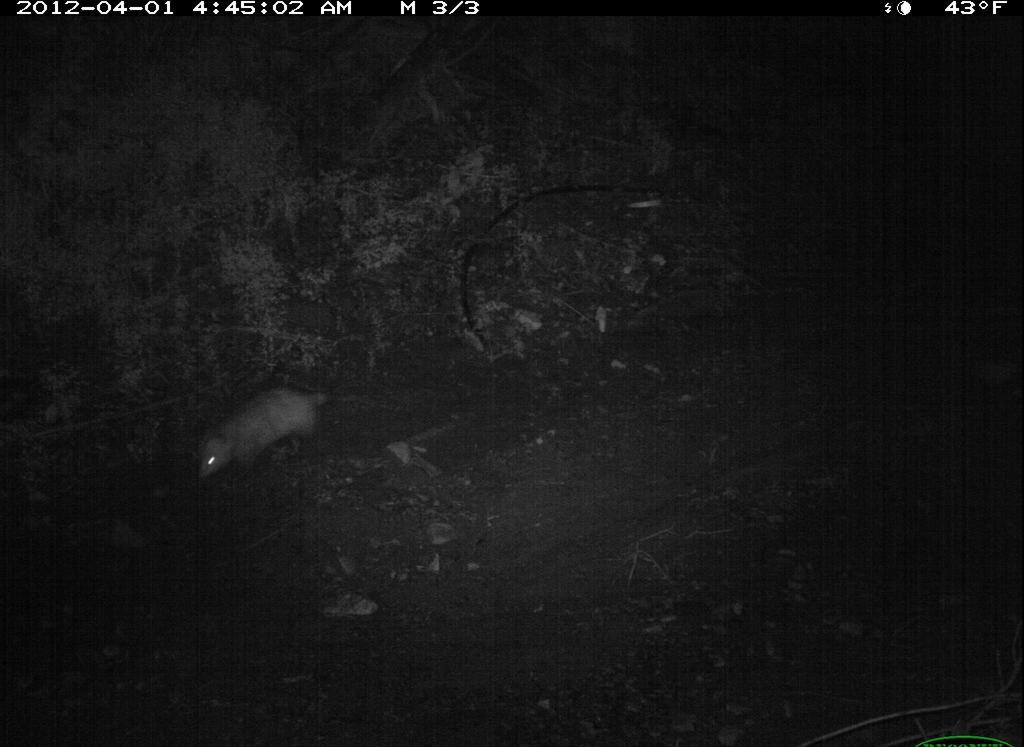opossum: (176, 370, 374, 486)
